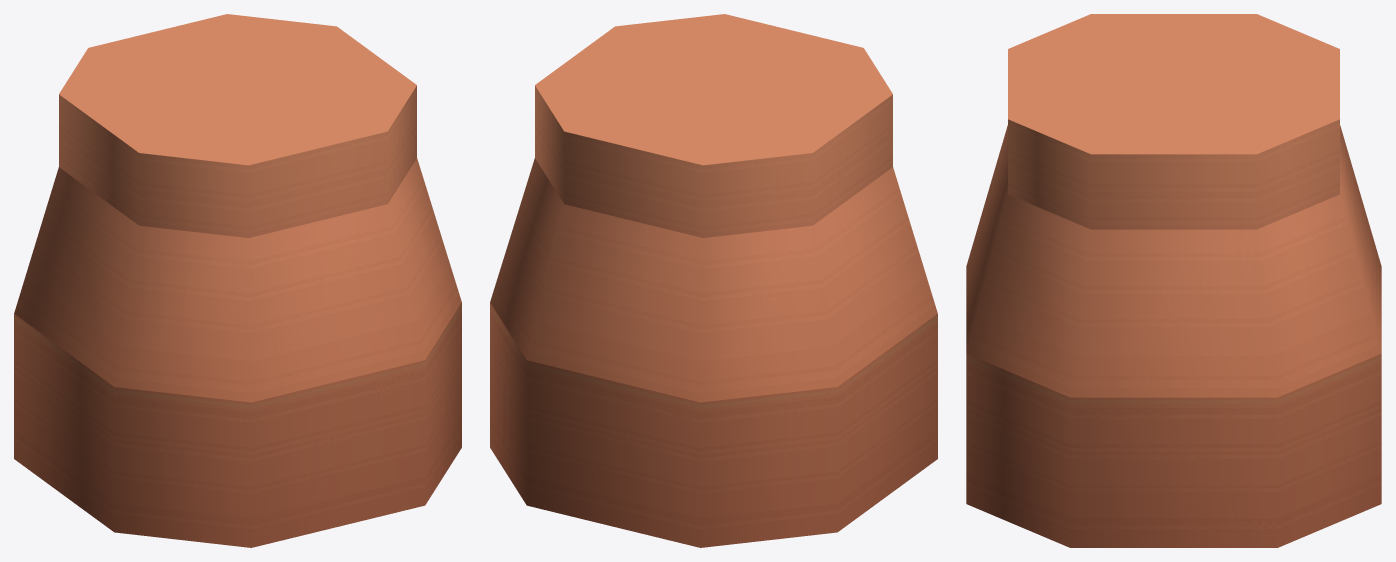
The model's file is support_low_bottom.glb.
3 views of the same model, side by side, from view 1: azimuth 30°, elevation 25°; view 2: azimuth 150°, elevation 25°; view 3: azimuth 270°, elevation 25° (orthographic). The views are drawn at different scales.
Visible parts, largest first — view 1: support-low-bottom; view 2: support-low-bottom; view 3: support-low-bottom.
Boxes of the visible parts, <box> form: support-low-bottom: <box>14,14,461,547</box>; support-low-bottom: <box>490,14,937,547</box>; support-low-bottom: <box>966,14,1381,547</box>.
Size of the model in its own units: 0.5 by 0.5 by 0.5.
Materials: 1 (1 with a texture image).
